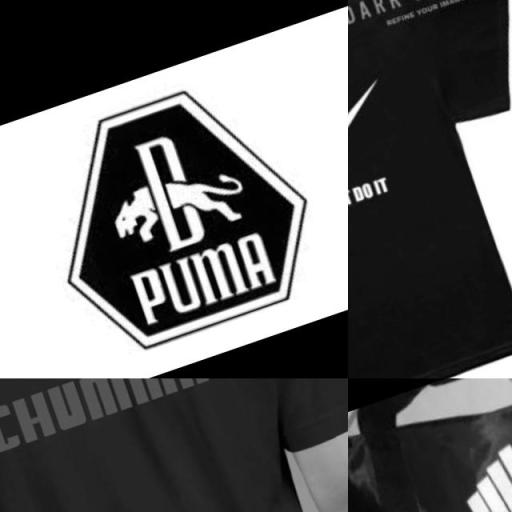Adidas: (426, 433, 511, 512)
Nike: (348, 65, 426, 253)
Puma: (82, 104, 262, 296), (0, 378, 258, 476)
